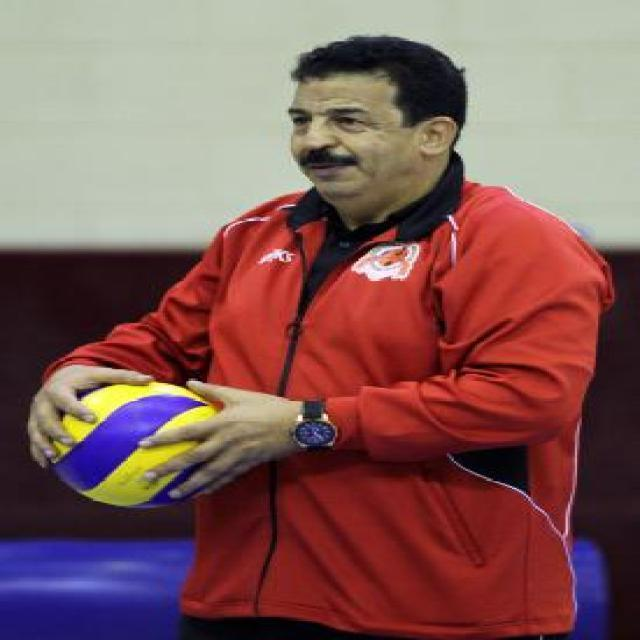volleyball: (45, 379, 221, 510)
